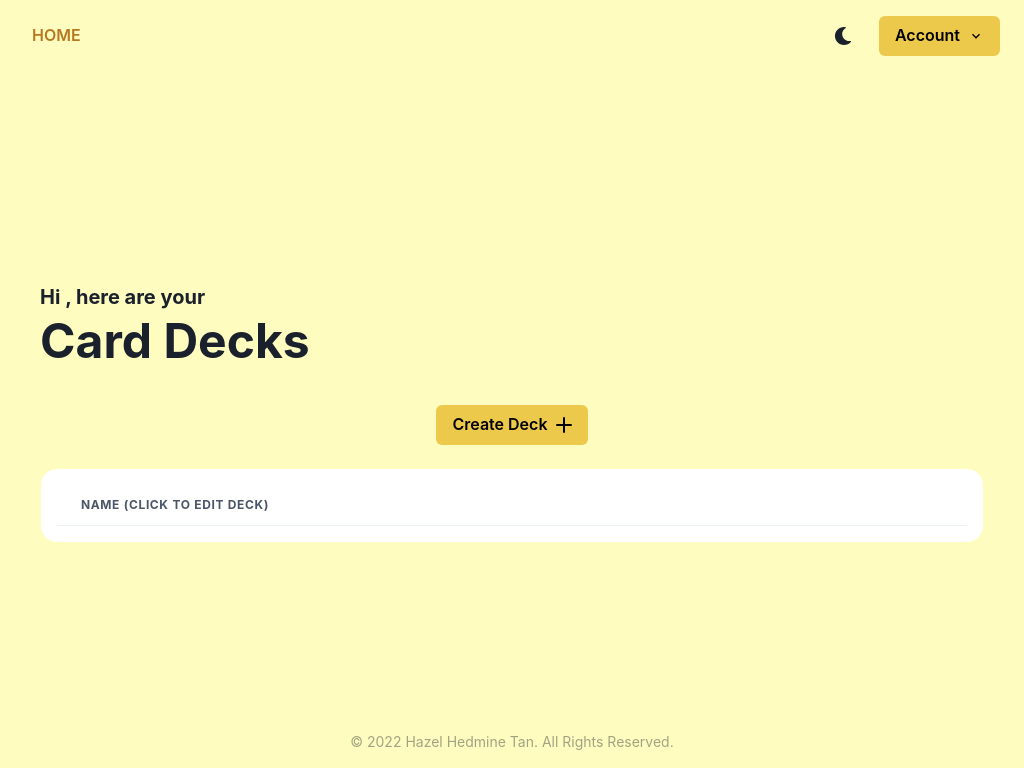
Test case: Note app › profile page can be accessed
The image size is (1024, 768).
Click the button "Account" at point(940, 36), box [879, 16, 1000, 56]
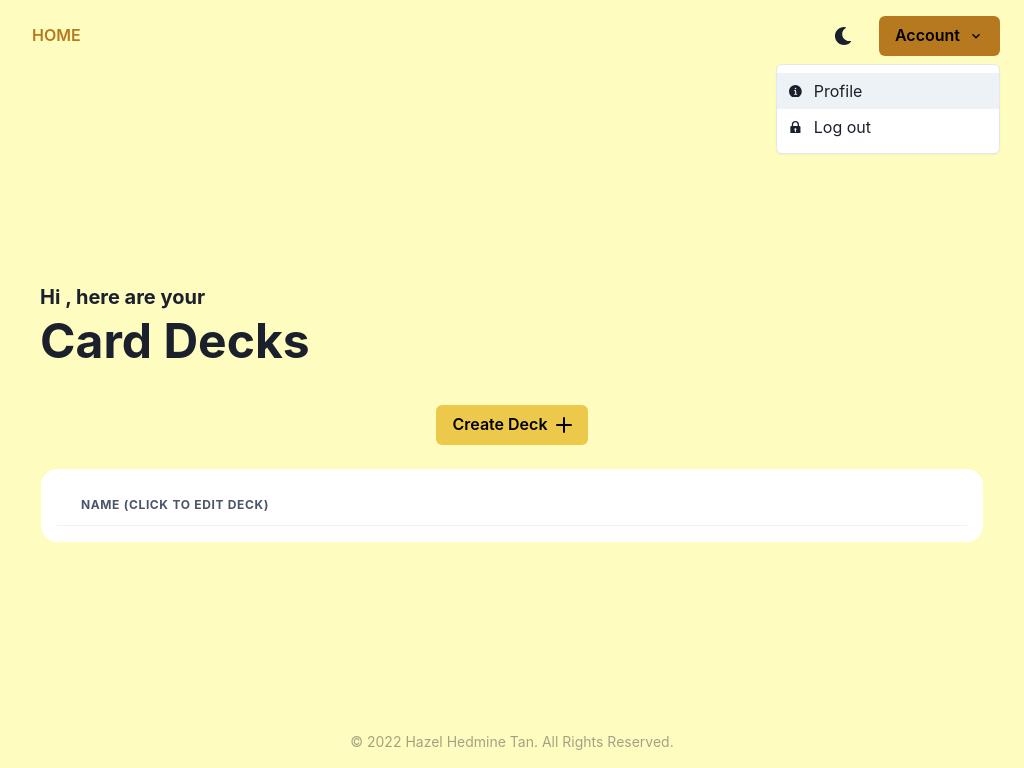
Click the menu item "Profile" at point(888, 91), box [777, 73, 999, 109]
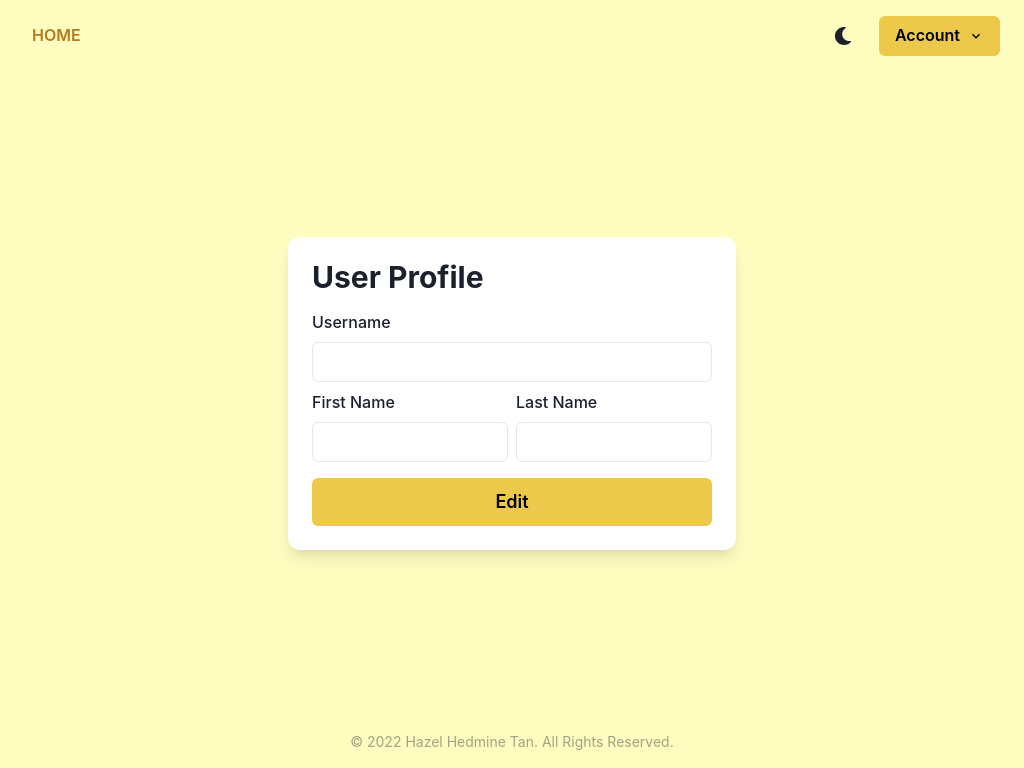
expect the heading "User Profile" is shown: met, box [312, 259, 484, 295]
